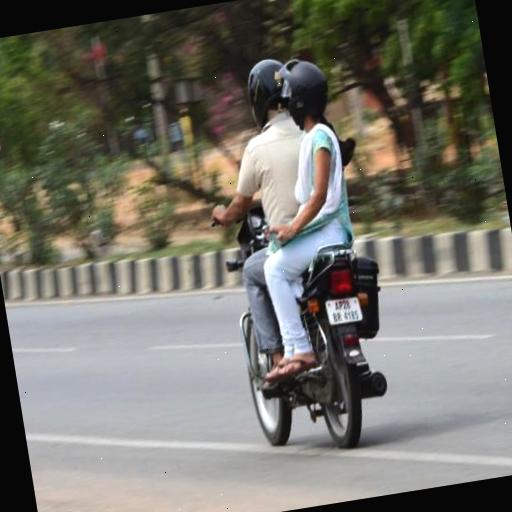helmet: (193, 45, 338, 418)
